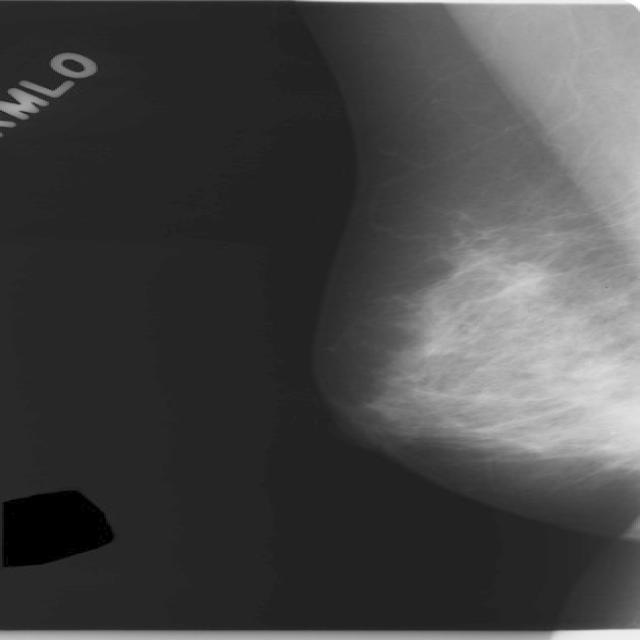tumour: (475, 255, 552, 297)
